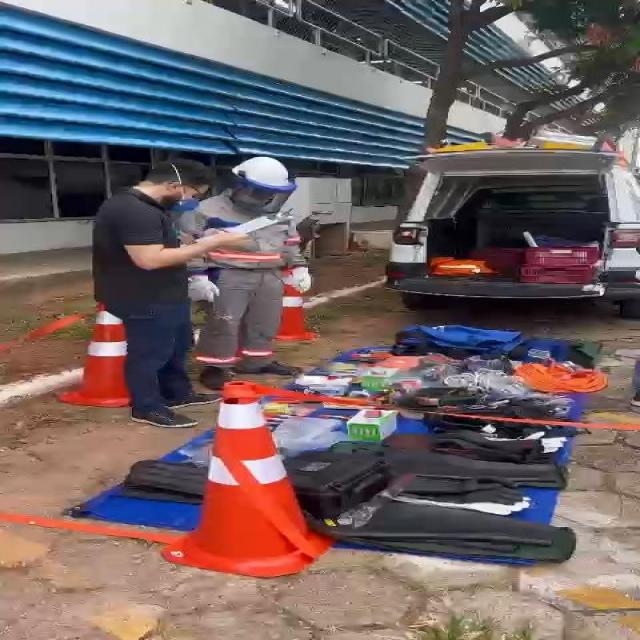Cone: (190, 374, 330, 584), (76, 304, 145, 409), (282, 254, 314, 350)
Face_Shield: (222, 169, 300, 209)
Gloves: (188, 272, 228, 303), (289, 260, 322, 296)
Head: (132, 154, 220, 206)
Helmet: (226, 156, 298, 212)
No gloves: (202, 226, 250, 252)
